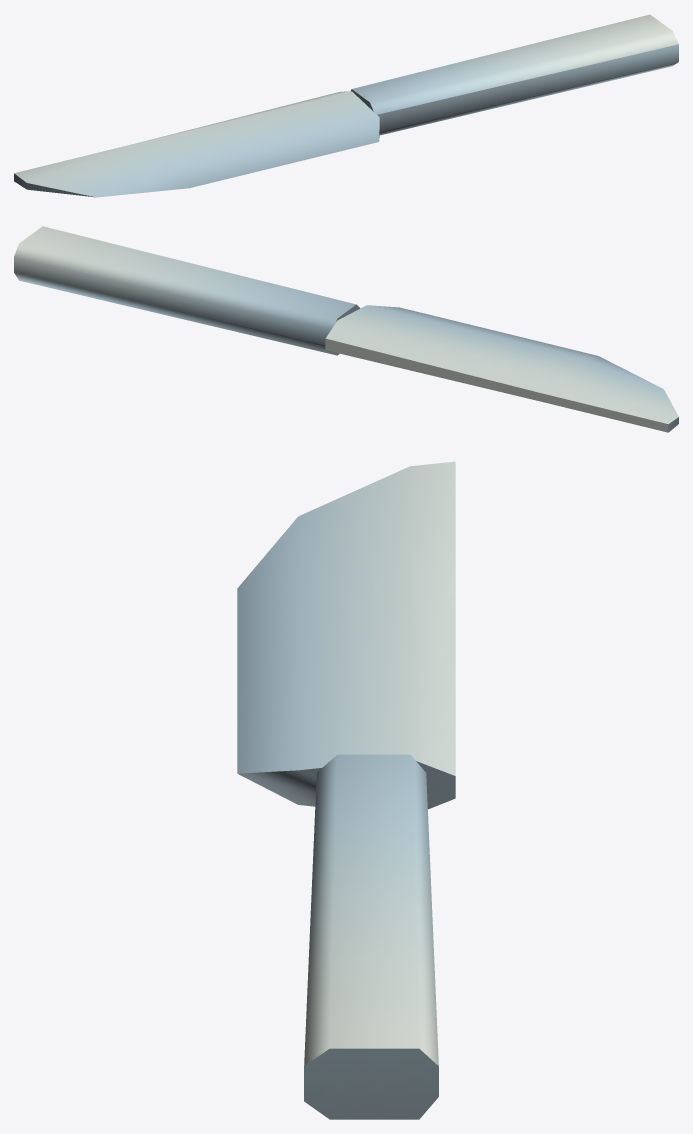
File: knife_cuttlery_silver.fbx
The picture shows the model from 3 angles, top to bottom: view 1: azimuth 30°, elevation 25°; view 2: azimuth 150°, elevation 25°; view 3: azimuth 270°, elevation 25°; orthographic projection. The views are drawn at different scales.
Visible parts, largest first — view 1: knife_cuttlery_silver; view 2: knife_cuttlery_silver; view 3: knife_cuttlery_silver.
Part boxes in pixels (x1,y1,x2,y2): knife_cuttlery_silver: (14,14,678,197); knife_cuttlery_silver: (14,226,678,432); knife_cuttlery_silver: (237,461,455,1119).
Bounding box in the file's own units: 43.25 × 2.35 × 6.53.
